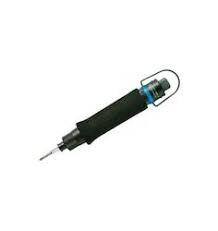screwdriver: (36, 67, 180, 162)
